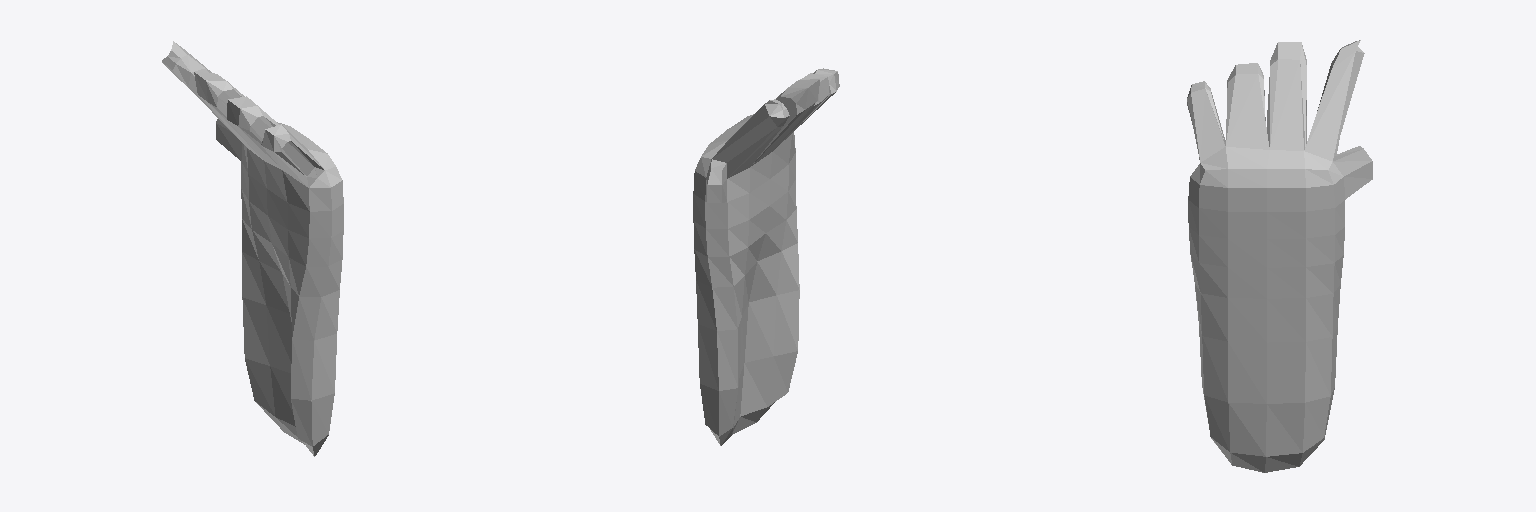
File: Hand.obj
3 renders of one model, left to right at view 1: azimuth 30°, elevation 25°; view 2: azimuth 150°, elevation 25°; view 3: azimuth 270°, elevation 25°, orthographic.
Visible parts, largest first — view 1: Cube; view 2: Cube; view 3: Cube.
Part boxes in pixels (bbox=[...]): Cube: bbox=[162, 41, 343, 456]; Cube: bbox=[693, 68, 839, 445]; Cube: bbox=[1187, 40, 1372, 472].
Size of the model in its own units: 2.13 by 7.15 by 3.08.